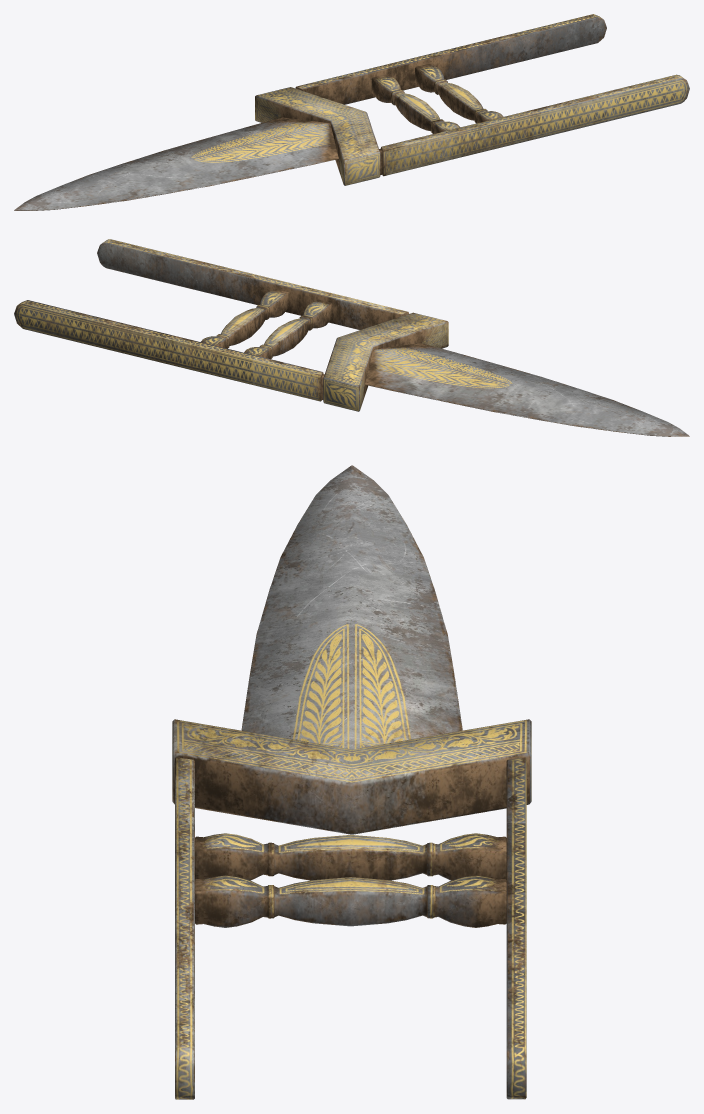
File: indian_katar.glb
3 renders of one model, top to bottom at view 1: azimuth 30°, elevation 25°; view 2: azimuth 150°, elevation 25°; view 3: azimuth 270°, elevation 25°, orthographic. The views are drawn at different scales.
Visible parts, largest first — view 1: Cube.003; view 2: Cube.003; view 3: Cube.003.
Part boxes in pixels (x1=…): Cube.003: x1=14, y1=14, x2=689, y2=210; Cube.003: x1=14, y1=239, x2=689, y2=436; Cube.003: x1=172, y1=465, x2=531, y2=1099.
Bounding box in the file's own units: 66.26 × 2.58 × 16.31.
1 material, 1 textured.
